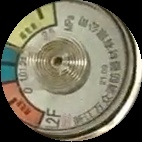green: (2, 44, 20, 83)
red: (2, 83, 46, 131)
yellow: (7, 1, 58, 48)
